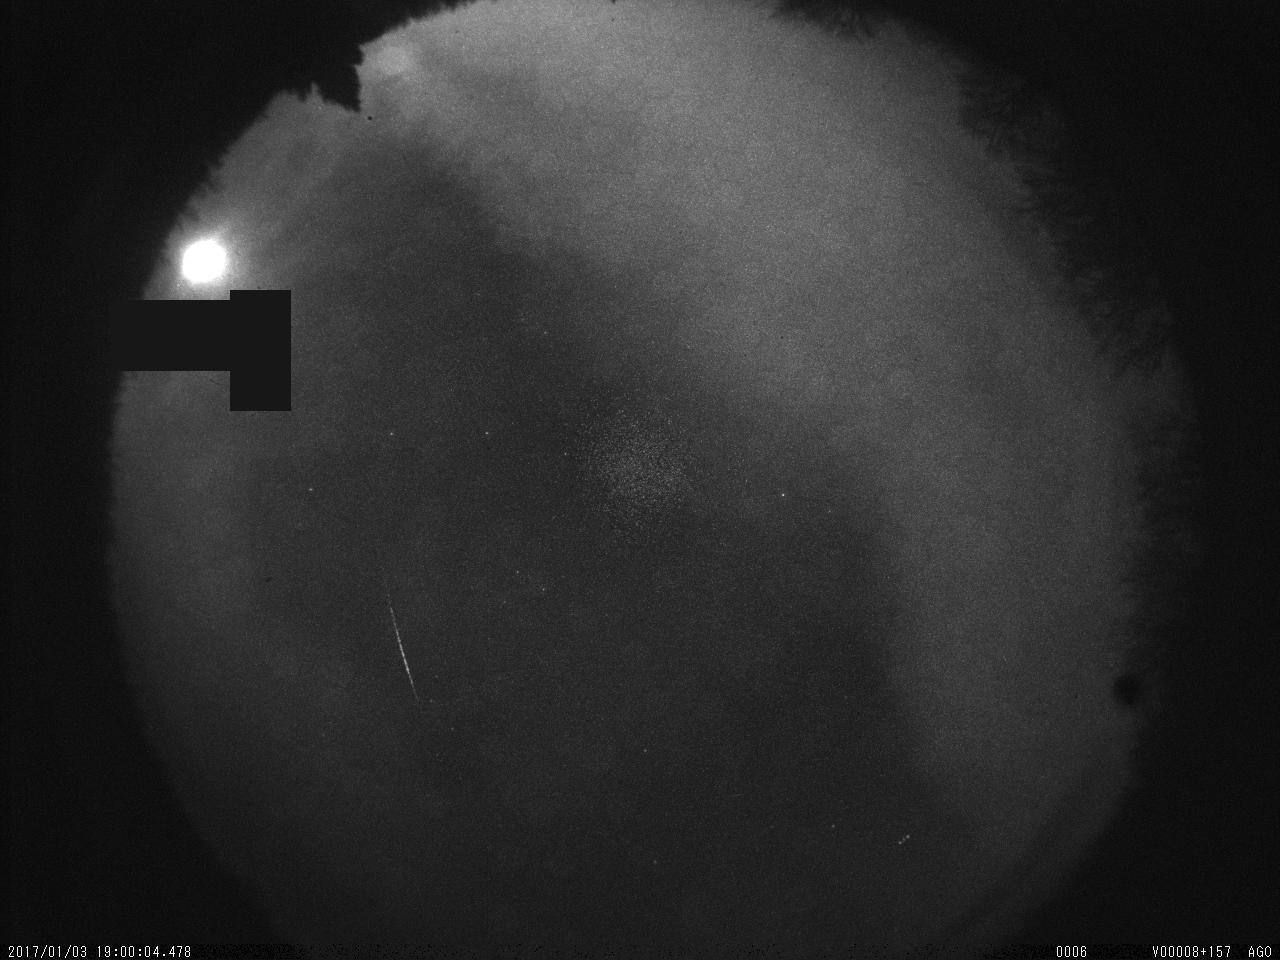meteor: (349, 572, 450, 745)
